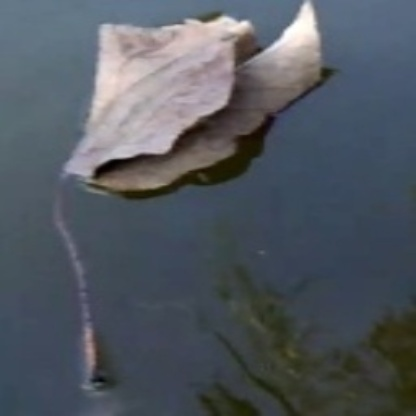leaf: (57, 6, 322, 389)
